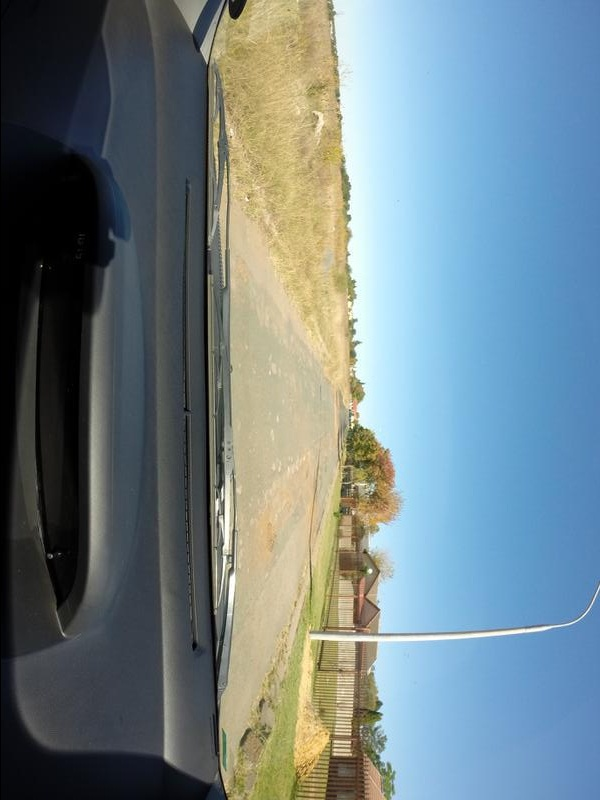pothole: (261, 522, 275, 559), (233, 264, 250, 292), (310, 462, 323, 494), (317, 386, 322, 410)
